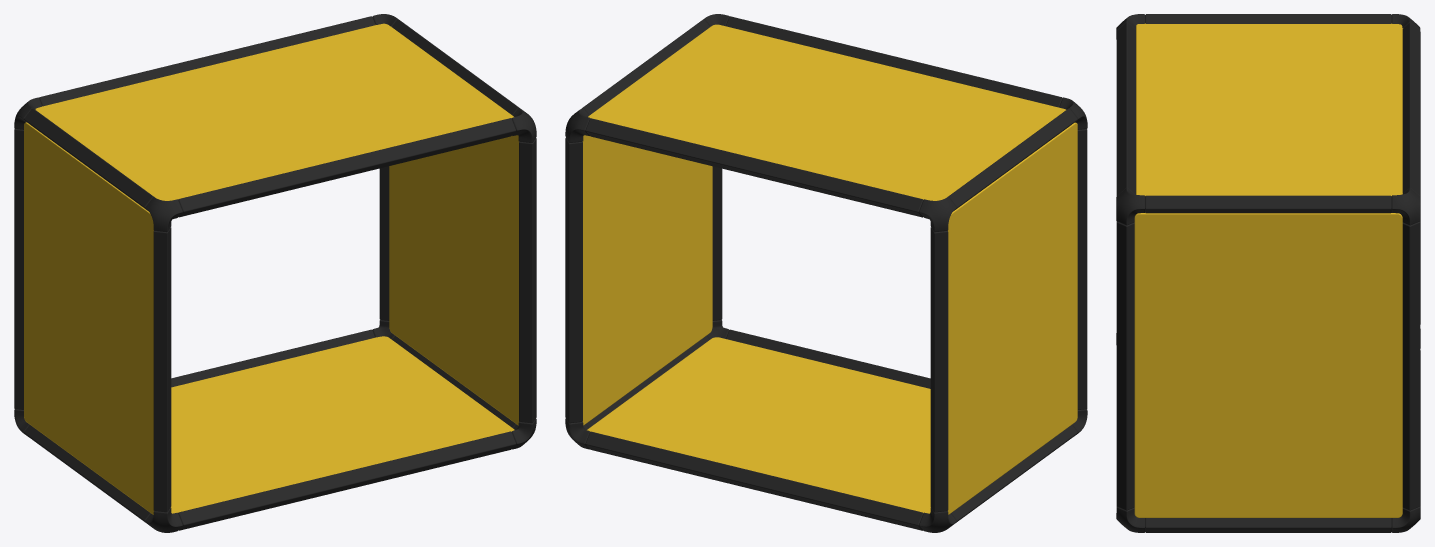
3 renders of one model, left to right at view 1: azimuth 30°, elevation 25°; view 2: azimuth 150°, elevation 25°; view 3: azimuth 270°, elevation 25°, orthographic.
Visible parts, largest first — view 1: 523x329x420; view 2: 523x329x420; view 3: 523x329x420.
Part boxes in pixels (x1,y1,x2,y2): 523x329x420: (14,14,536,532); 523x329x420: (565,14,1087,532); 523x329x420: (1116,14,1420,532).
Size of the model in its own units: 0.6007 by 0.4976 by 0.4063.
